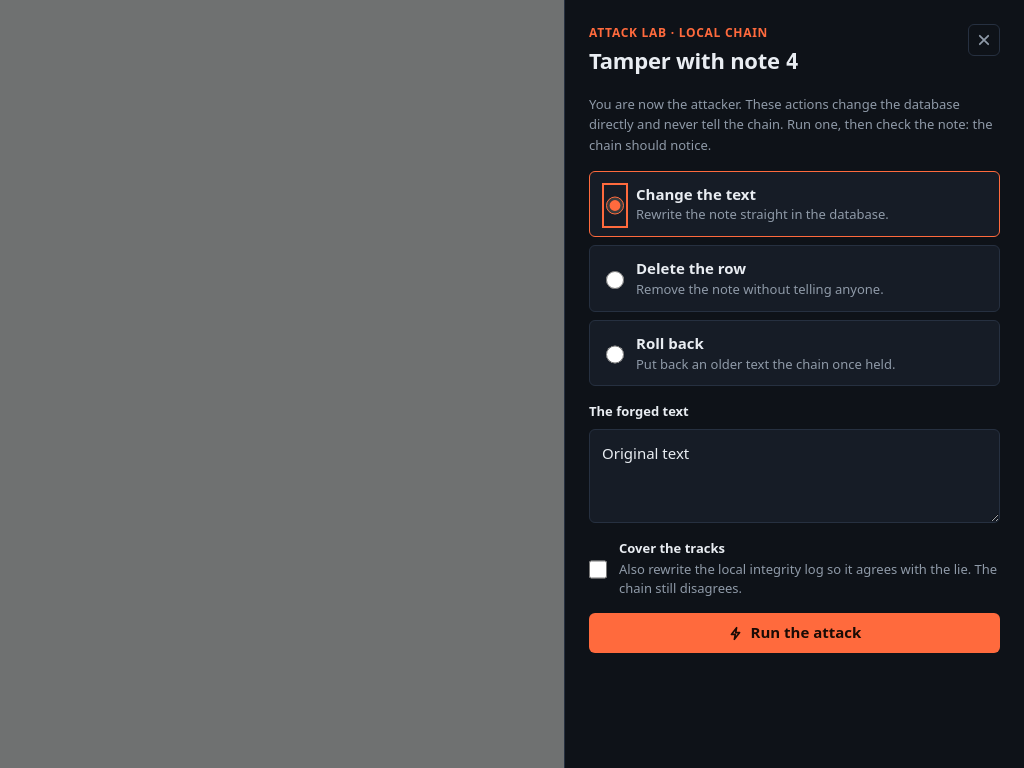
Test case: AttackLab › closes on Escape, including while an attack is still running and focus has left the dialog
Click the button "Run the attack" at (794, 633), box [589, 613, 1000, 653]
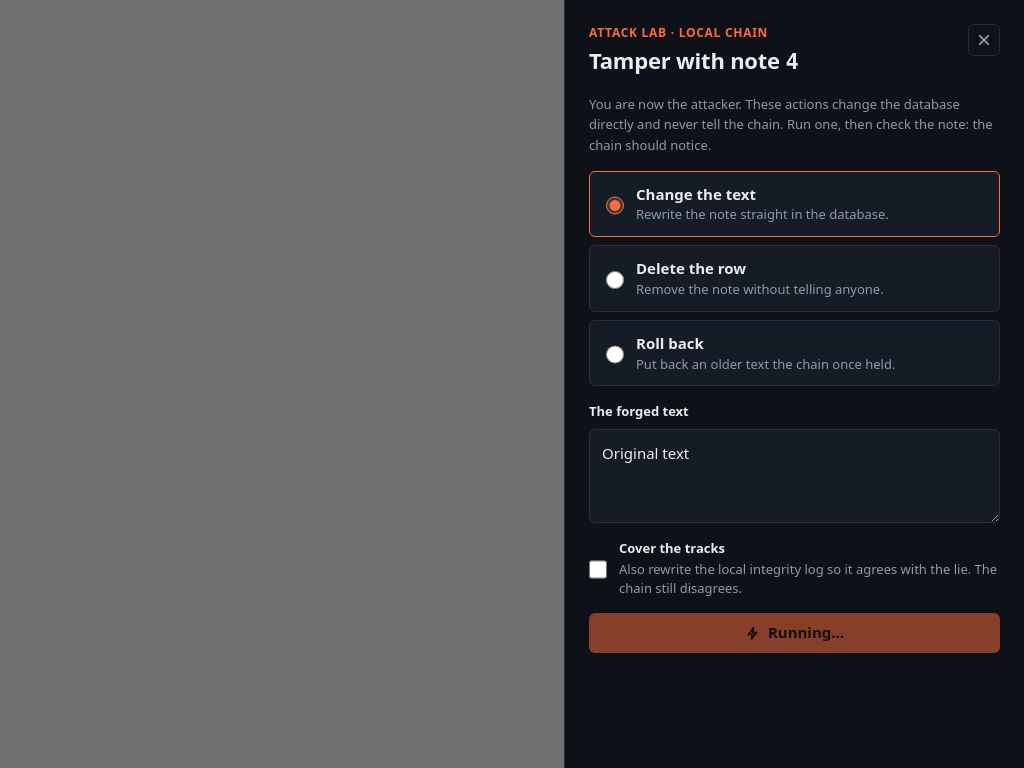
Expected: the button "Running…" is disabled, [589, 613, 1000, 653]
Press Escape
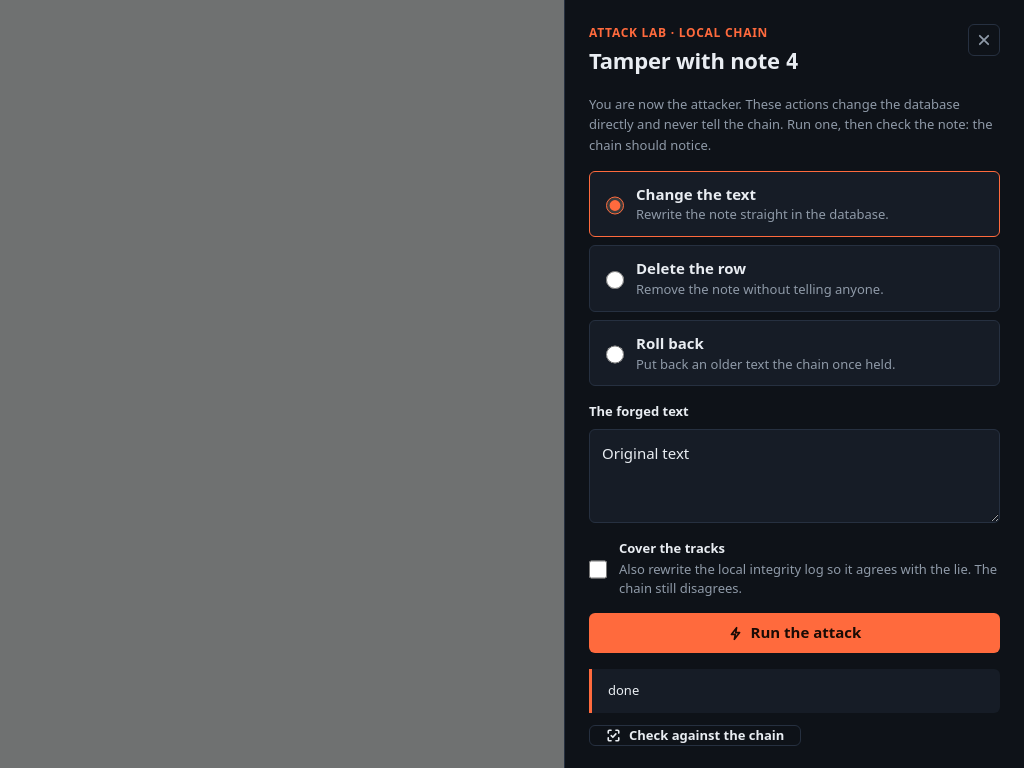
Expected: the button "Run the attack" is enabled, [589, 613, 1000, 653]
